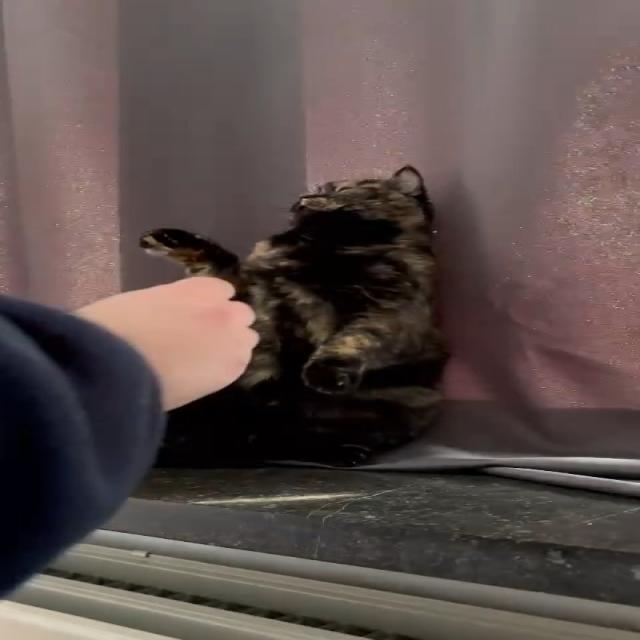authorized: (136, 164, 451, 468)
